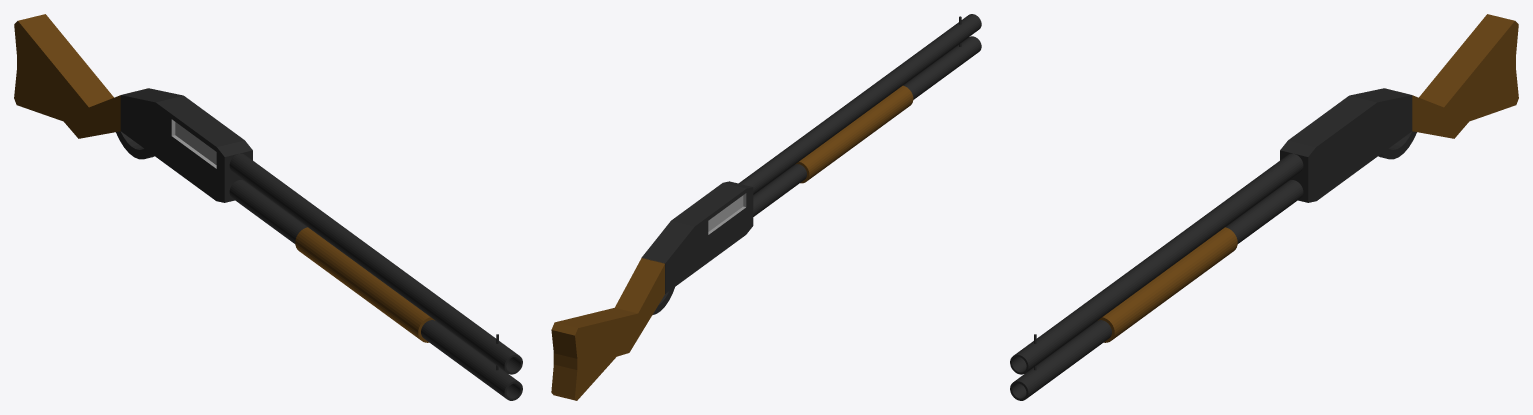
File: shotgun.fbx
3 renders of one model, left to right at view 1: azimuth 30°, elevation 25°; view 2: azimuth 150°, elevation 25°; view 3: azimuth 330°, elevation 25°, orthographic. The views are drawn at different scales.
Visible parts, largest first — view 1: Cylinder.003; view 2: Cylinder.003; view 3: Cylinder.003.
Boxes of the visible parts, x1,y1,x2,y2 form: Cylinder.003: (14, 14, 522, 400); Cylinder.003: (551, 14, 981, 400); Cylinder.003: (1010, 14, 1518, 400).
Size of the model in its own units: 7.48 by 27.63 by 224.
